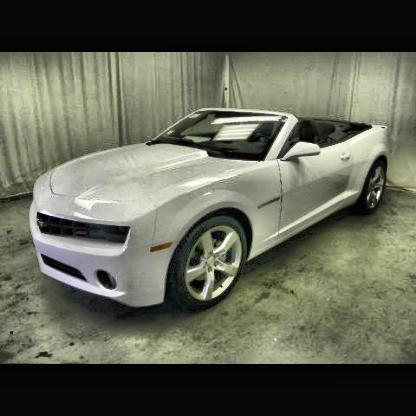Chevrolet Camaro Convertible 2012: (29, 109, 393, 315)
